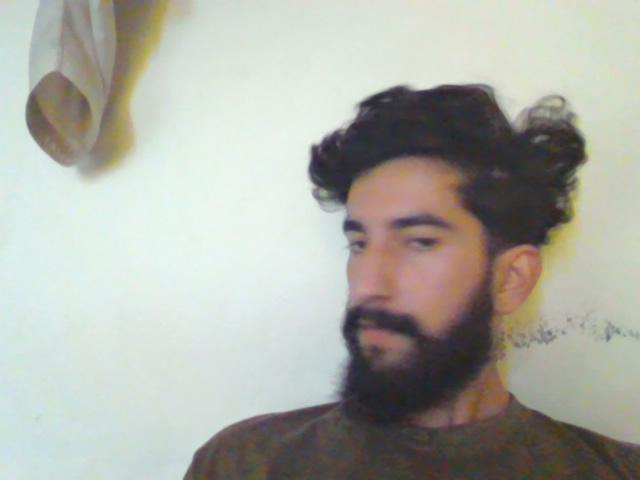hairnetless: (217, 61, 629, 291)
